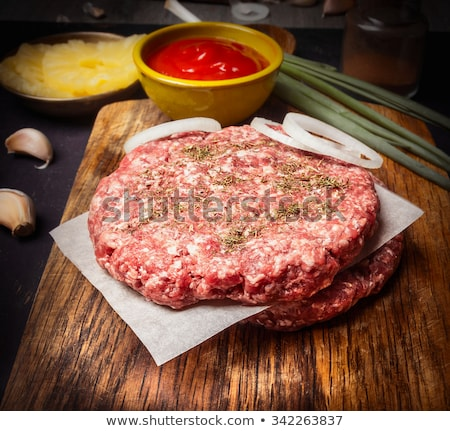ground_beef: (108, 129, 379, 311)
